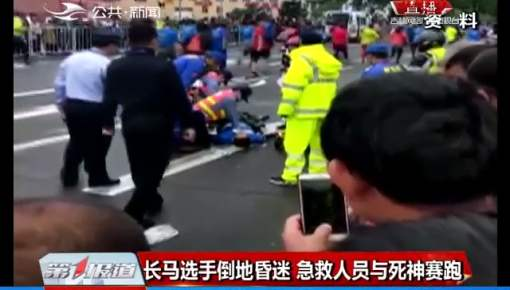10+: (17, 1, 507, 281)
down: (207, 103, 271, 157)
